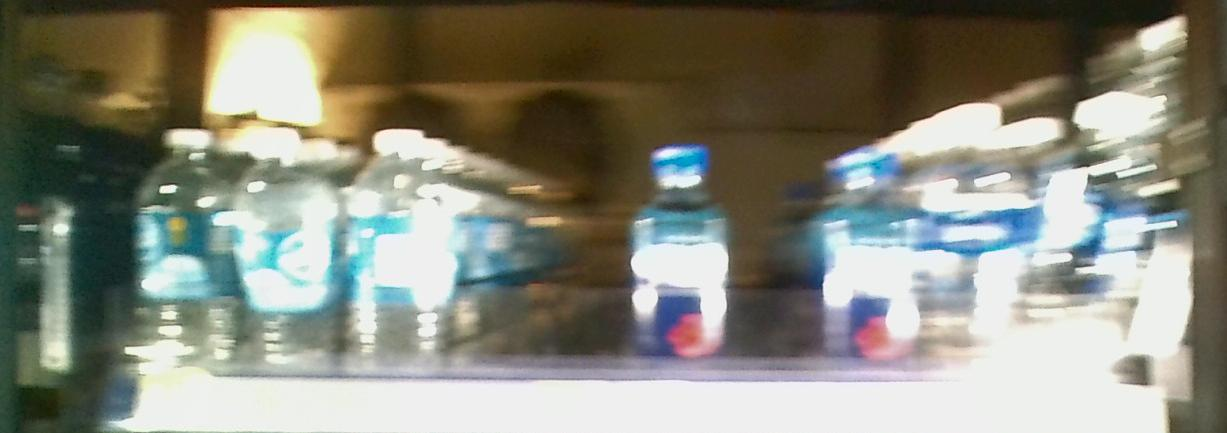bottle: (130, 125, 235, 370), (346, 122, 442, 380), (242, 126, 338, 373), (630, 131, 730, 368)
